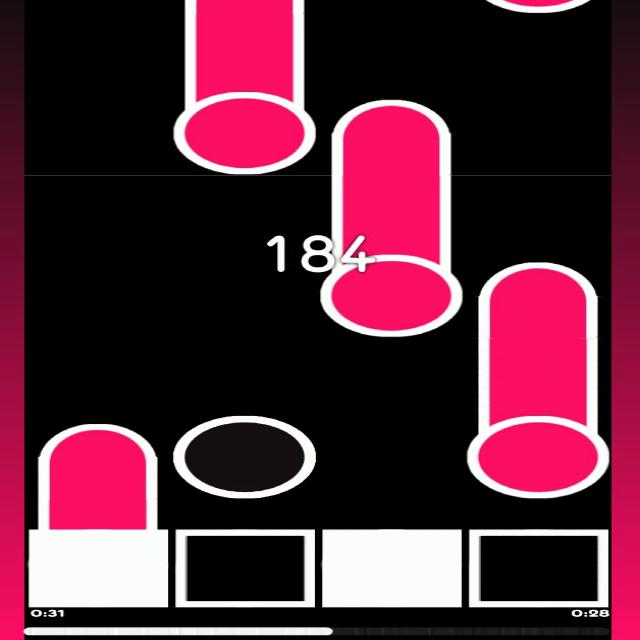end_hold: (322, 76, 466, 180), (471, 229, 612, 327), (31, 386, 166, 482)
note: (170, 413, 319, 500)
start_hold: (312, 228, 468, 339), (463, 389, 610, 500), (169, 78, 317, 175)
